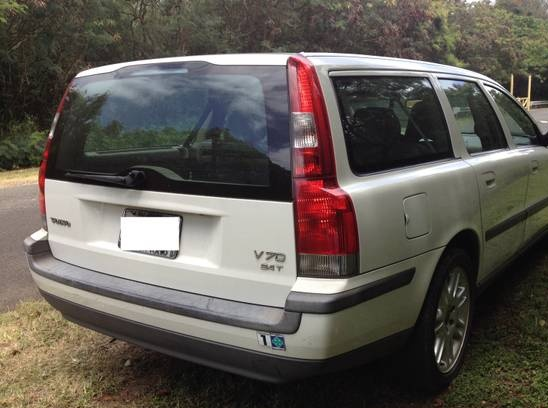volvo: (13, 48, 548, 396)
